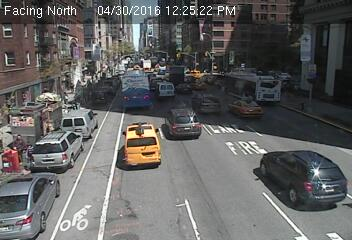neg: (228, 107, 249, 136), (143, 121, 162, 146)
pos: (4, 132, 28, 164)
